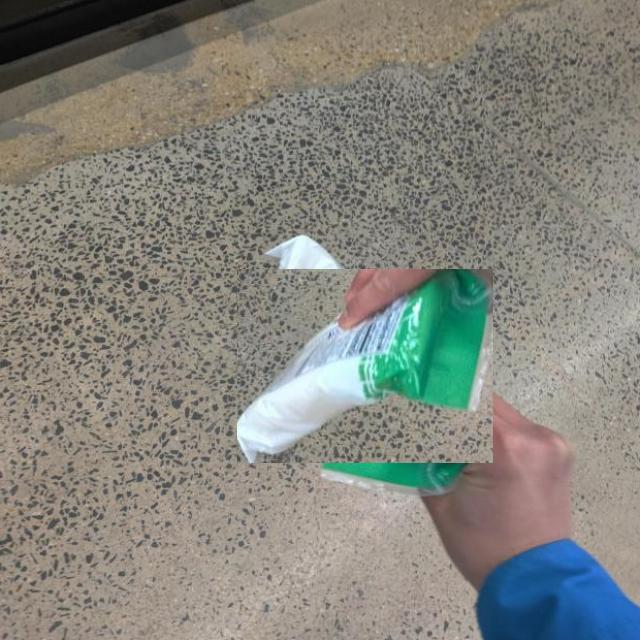Strawberry: (238, 268, 493, 463)
